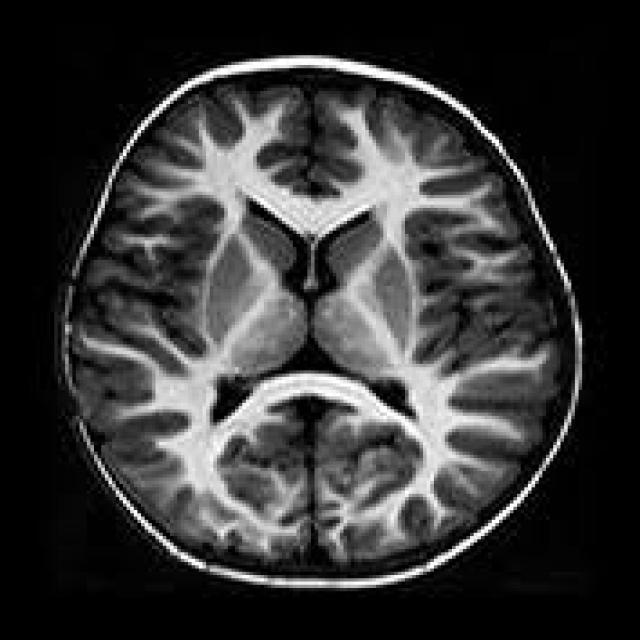notumor: (51, 55, 582, 595)
